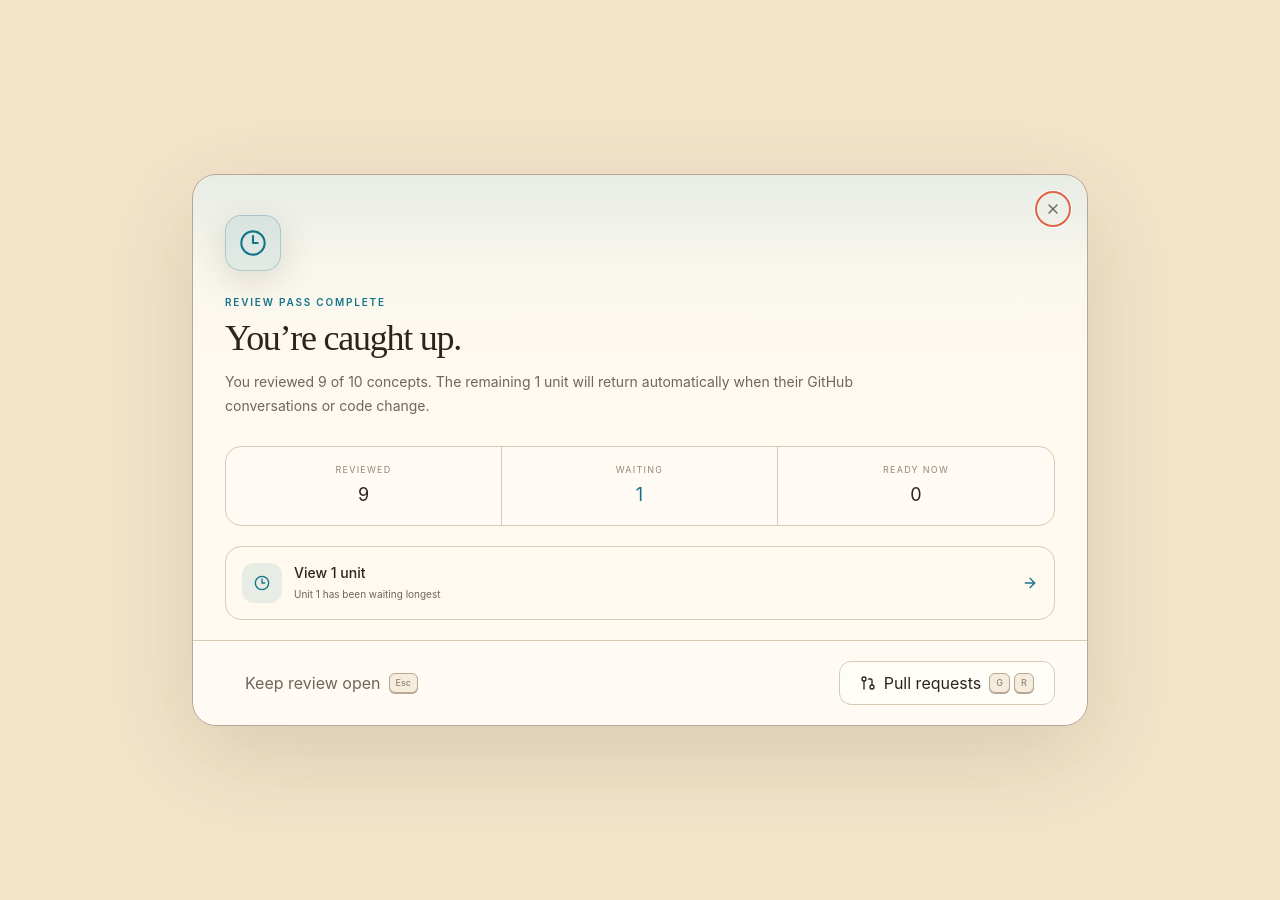
Test: ReviewWaitingCompletion › explains when provider activity has no known wait timestamp
Click the button "View 1 unit Unit 1 has been waiting longest": click(262, 583) [225,546,1055,620]
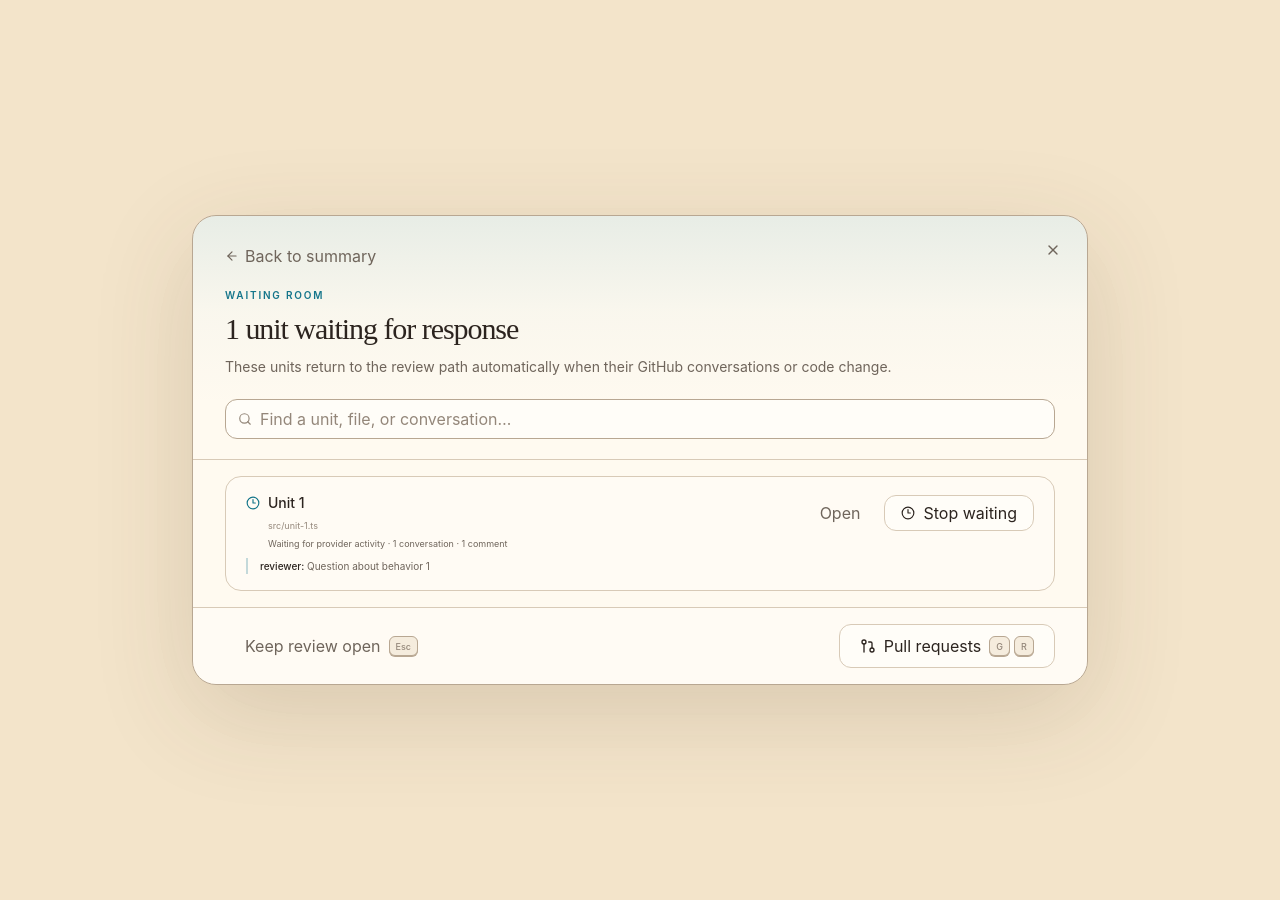
Now the text "Waiting for provider activity" is shown, box [268,538,385,548]
